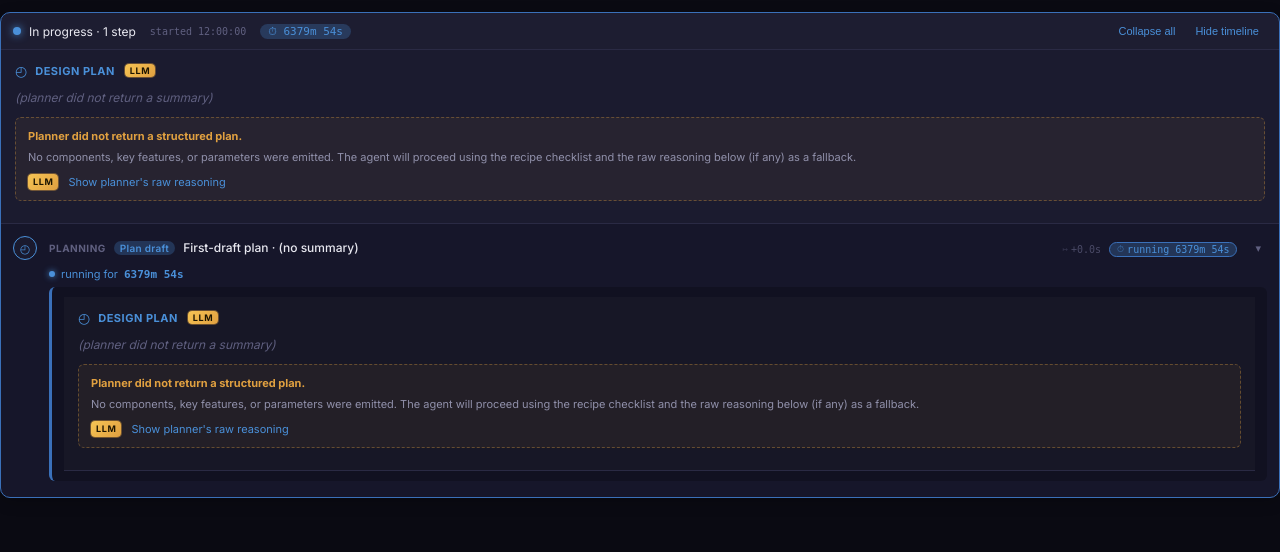
Test case: PipelineProgress › shows raw planner reasoning for an empty draft when expanded
This screenshot has width=1280, height=552.
Check: the 1st text "Planner did not return a structured plan." is shown, box [28,129,242,143]
What coordinates should you click on to do the following:
click the 1st text "Show planner's raw reasoning"
I would click on:
 (147, 182)
Its box is [68,174,226,190].
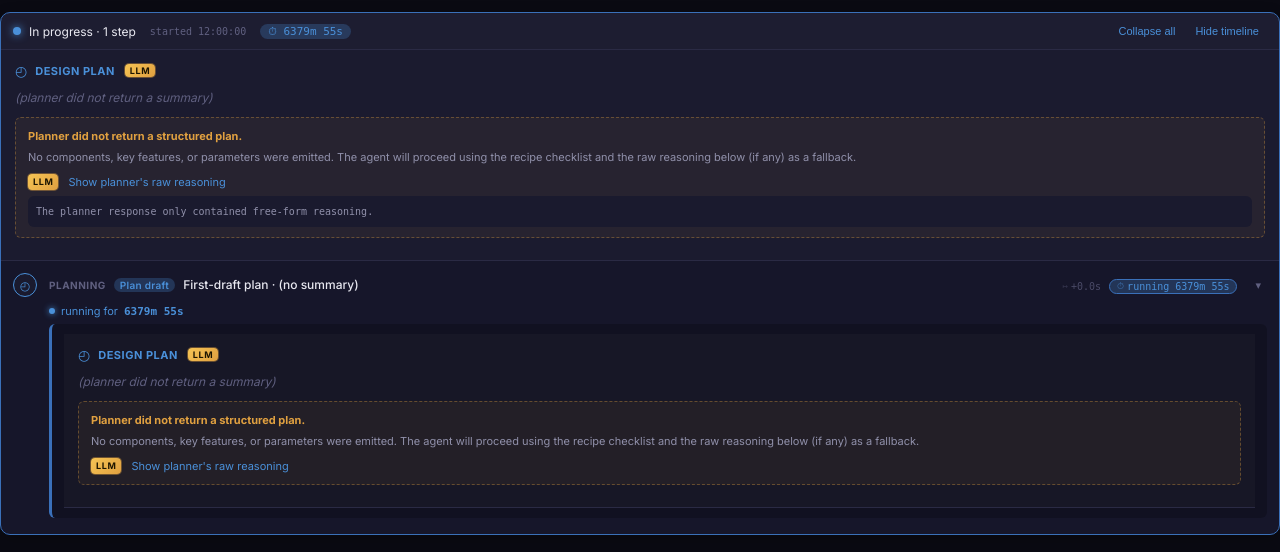
Check: the text "The planner response only contained free-form reasoning." is shown, box [28,196,1252,227]
